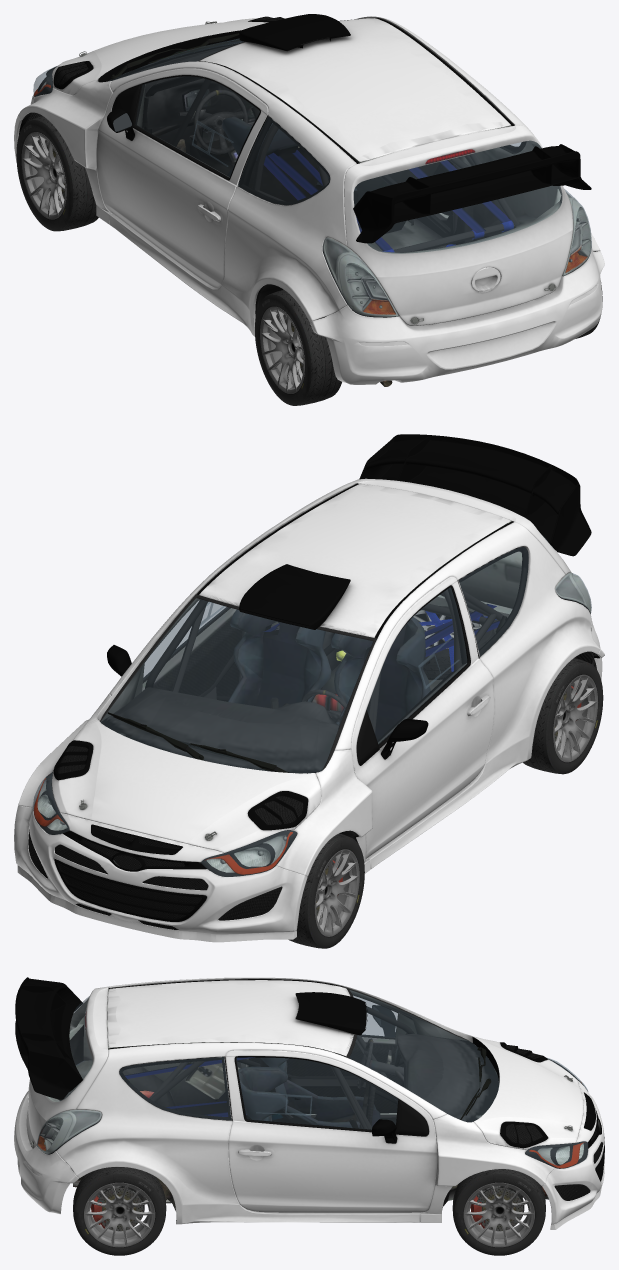
File: racing_hatch.glb
The picture shows the model from 3 angles, top to bottom: view 1: azimuth 30°, elevation 25°; view 2: azimuth 150°, elevation 25°; view 3: azimuth 270°, elevation 25°; orthographic projection. The views are drawn at different scales.
Visible parts, largest first — view 1: HI_body.001, HI_interior.001, HI_glass.001, HI_wheel back-left, HI_wheel front-left; view 2: HI_body.001, HI_interior.001, HI_glass.001, HI_wheel back-left, HI_wheel front-left; view 3: HI_body.001, HI_interior.001, HI_glass.001, HI_wheel back-right, HI_wheel front-right.
Boxes of the visible parts, x1,y1,x2,y2 form: HI_body.001: (14,14,604,384); HI_interior.001: (19,16,597,386); HI_glass.001: (33,38,591,316); HI_wheel back-left: (255,289,341,405); HI_wheel front-left: (16,116,98,231); HI_body.001: (14,434,604,942); HI_interior.001: (28,483,599,929); HI_glass.001: (33,535,591,876); HI_wheel back-left: (523,658,603,774); HI_wheel front-left: (288,833,364,948); HI_body.001: (14,977,604,1229); HI_interior.001: (30,979,603,1220); HI_glass.001: (36,990,588,1168); HI_wheel back-right: (73,1167,166,1255); HI_wheel front-right: (452,1169,545,1255).
Size of the model in its own units: 1.9 by 1.41 by 3.86.
6 materials, 4 textured.
